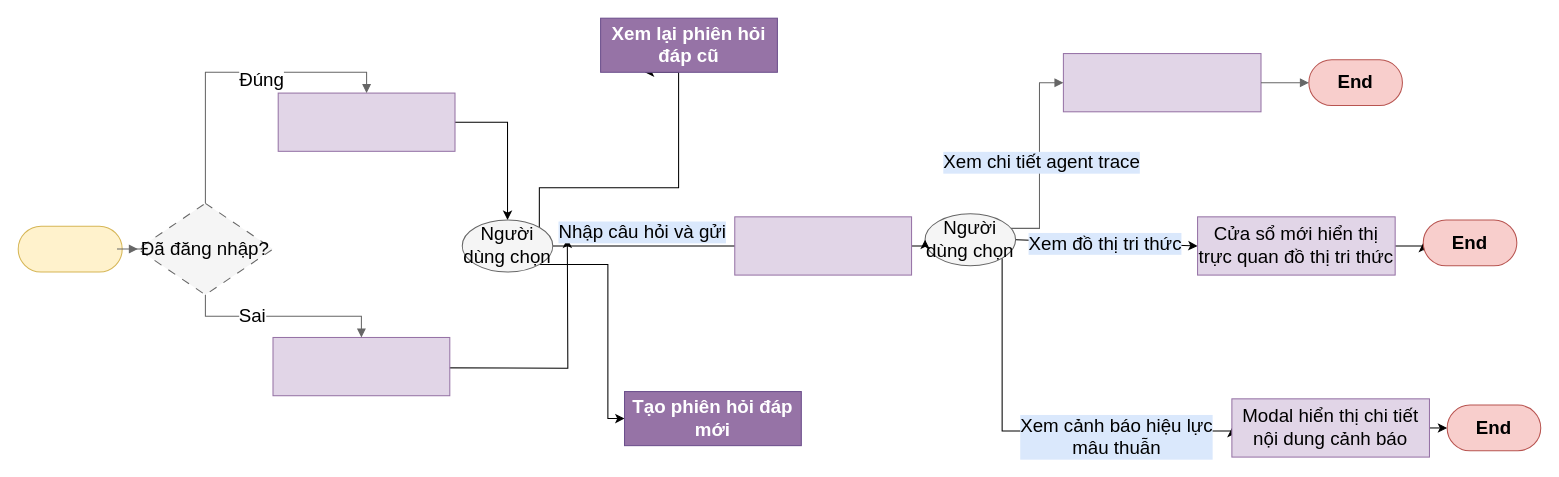
This 1559x477 diagram has some shape labels left out. The box of each missing label's shape, as (x1, y1, x2, y2) in pixels:
Dropdown hiển thị chi tiết agent trace: (1062, 53, 1261, 112)
Màn hình chat có sidebar lịch sử hội thoại: (277, 92, 455, 151)
Màn hình chat hiển thị câu trả lời: (734, 216, 912, 275)
Màn hình chat không có sidebar lịch sử hội thoại: (272, 336, 450, 396)
Start: (17, 225, 122, 272)
